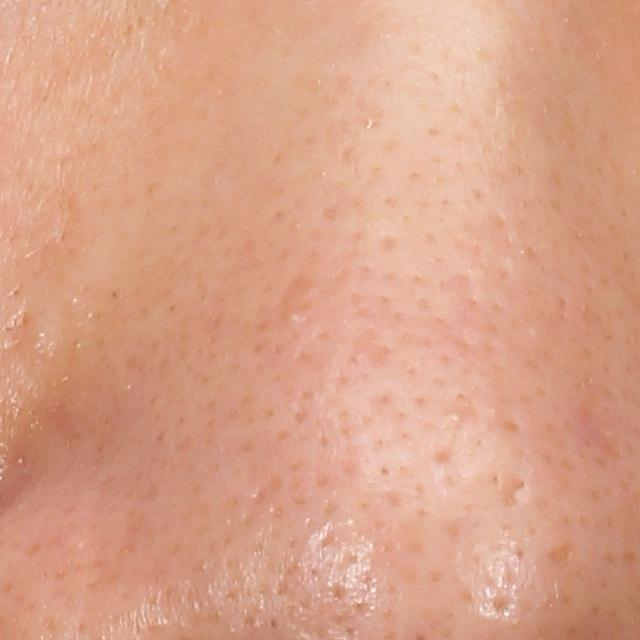atrophic_scar: (347, 324, 393, 366), (540, 541, 577, 572), (500, 476, 528, 513), (429, 443, 454, 469)
